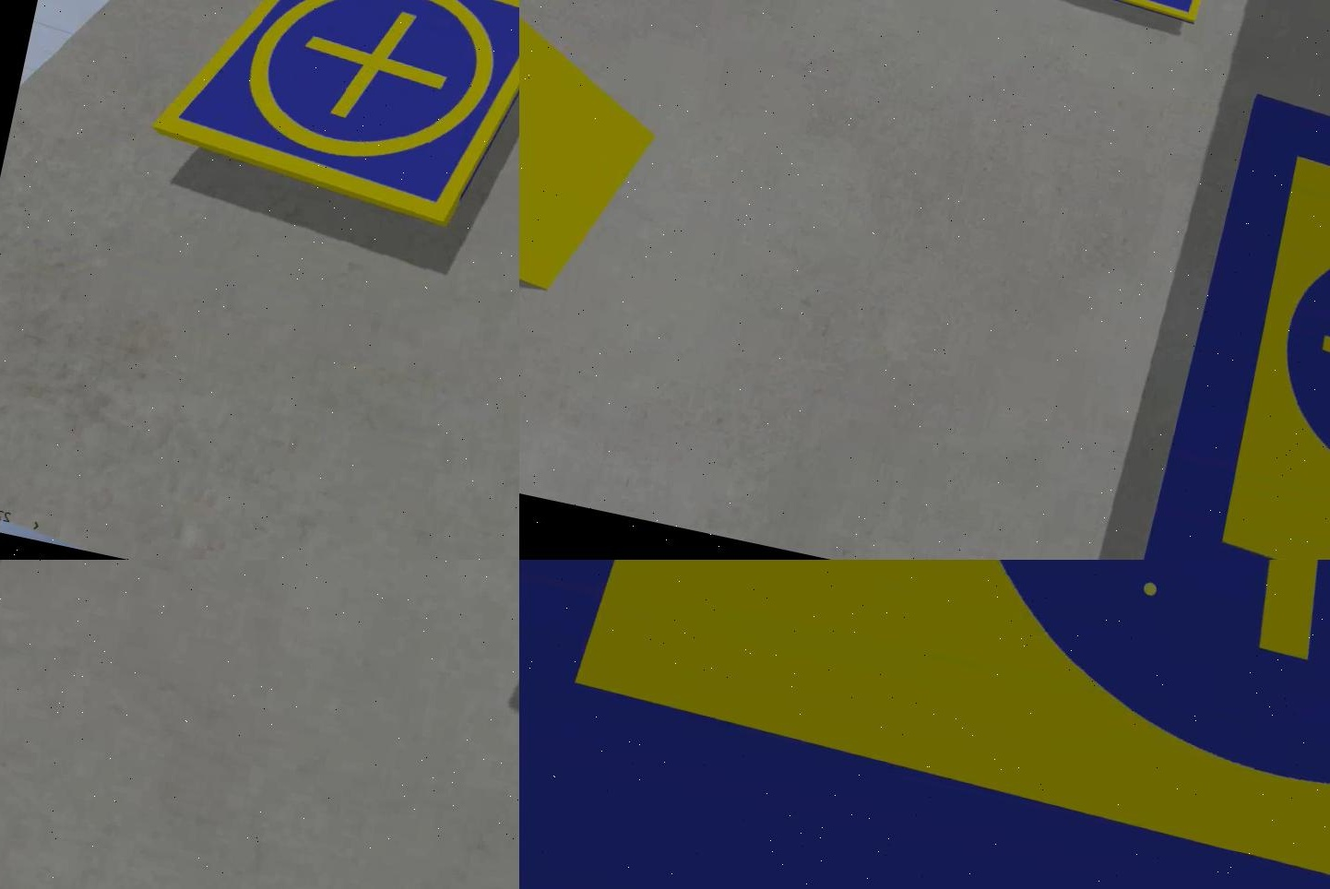large_base: (517, 561, 1328, 889), (1126, 90, 1328, 561)
small_base: (141, 1, 517, 240)
